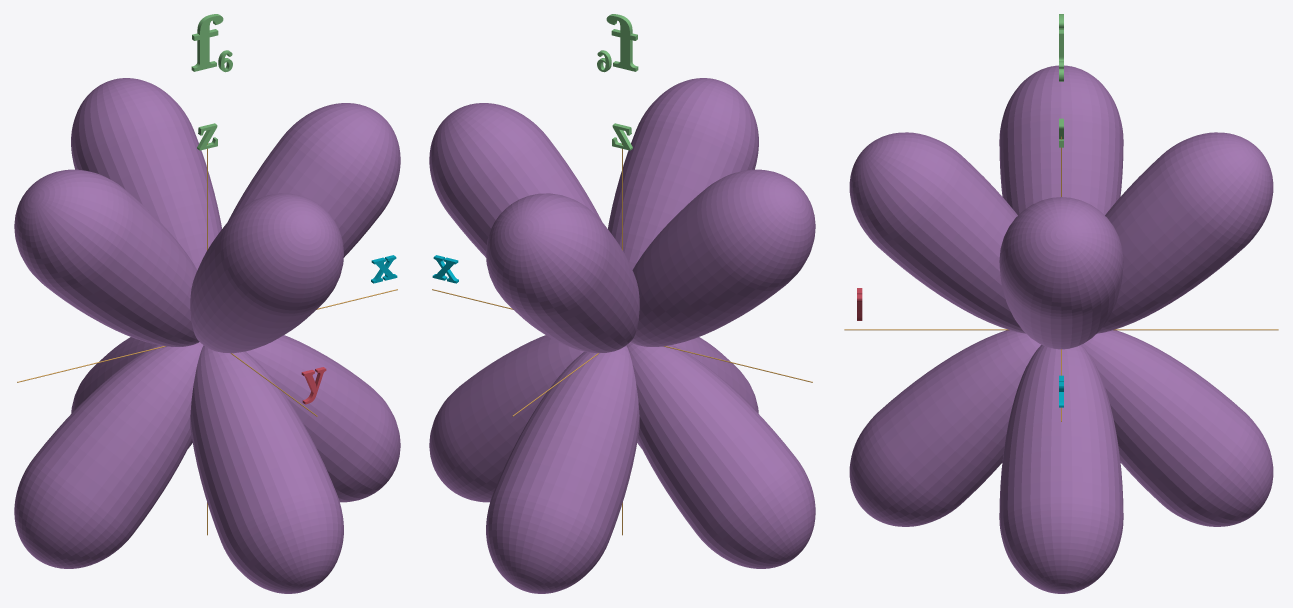
Rendered from f6 orbital.glb.
The picture shows the model from 3 angles, left to right: view 1: azimuth 30°, elevation 25°; view 2: azimuth 150°, elevation 25°; view 3: azimuth 270°, elevation 25°; orthographic projection.
Parts seen in each view (by area): view 1: Mesh_Mesh_head_geo.001_lambert2SG.001; view 2: Mesh_Mesh_head_geo.001_lambert2SG.001; view 3: Mesh_Mesh_head_geo.001_lambert2SG.001.
Part boxes in pixels (bbox=[...]): Mesh_Mesh_head_geo.001_lambert2SG.001: bbox=[14, 14, 400, 593]; Mesh_Mesh_head_geo.001_lambert2SG.001: bbox=[429, 14, 815, 593]; Mesh_Mesh_head_geo.001_lambert2SG.001: bbox=[844, 14, 1278, 593].
Bounding box in the file's own units: 84 × 109 × 84.
